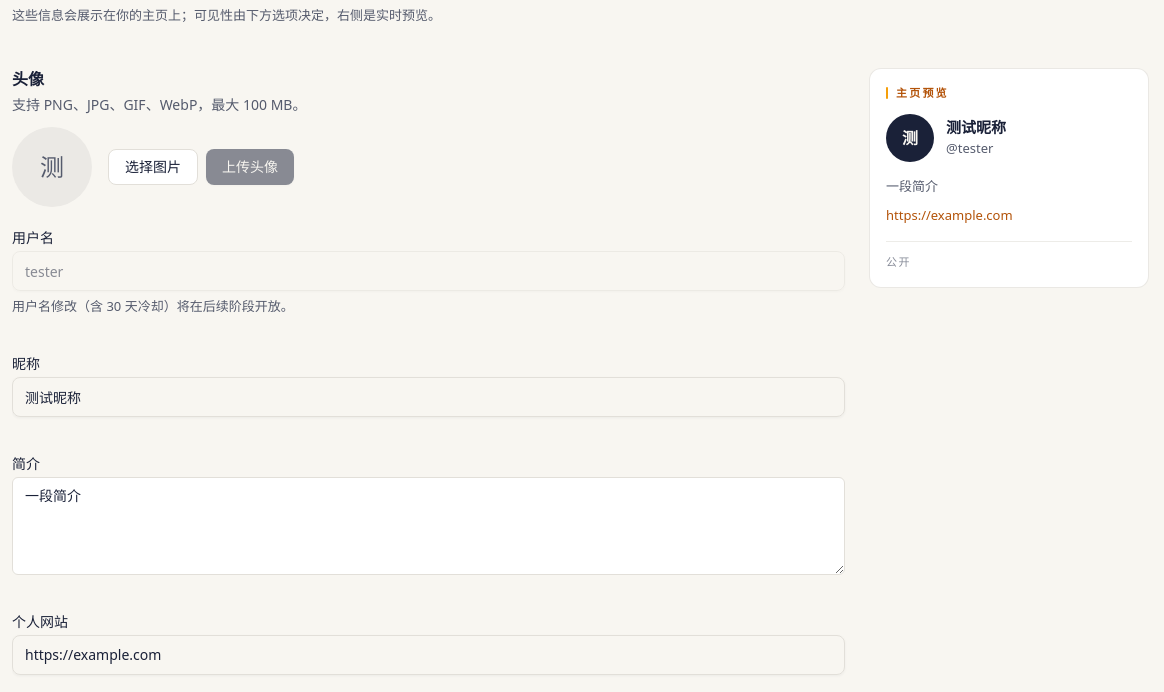
Test: SettingsProfilePage — edit and save › shows a saved confirmation and adopts the server response
Replace the text in the field labelled "昵称" with "新昵称" at (428, 397), box [12,377,845,417]
(page scrolled)
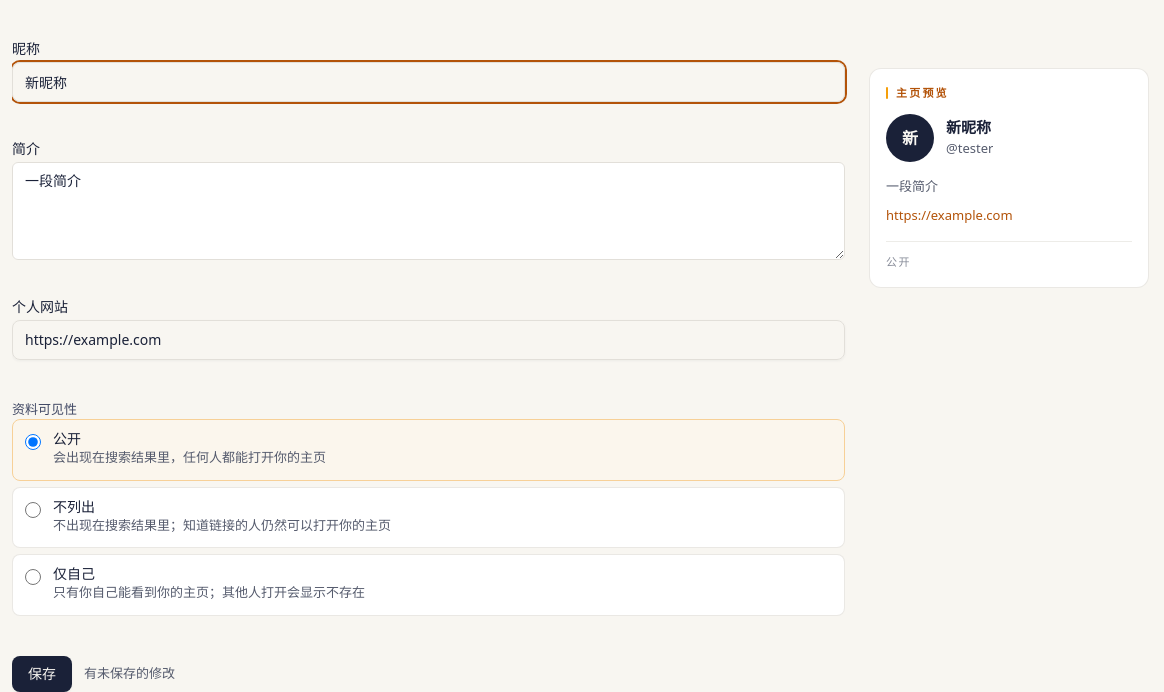
Click the button "保存" at (42, 674), box [12,656,72,691]
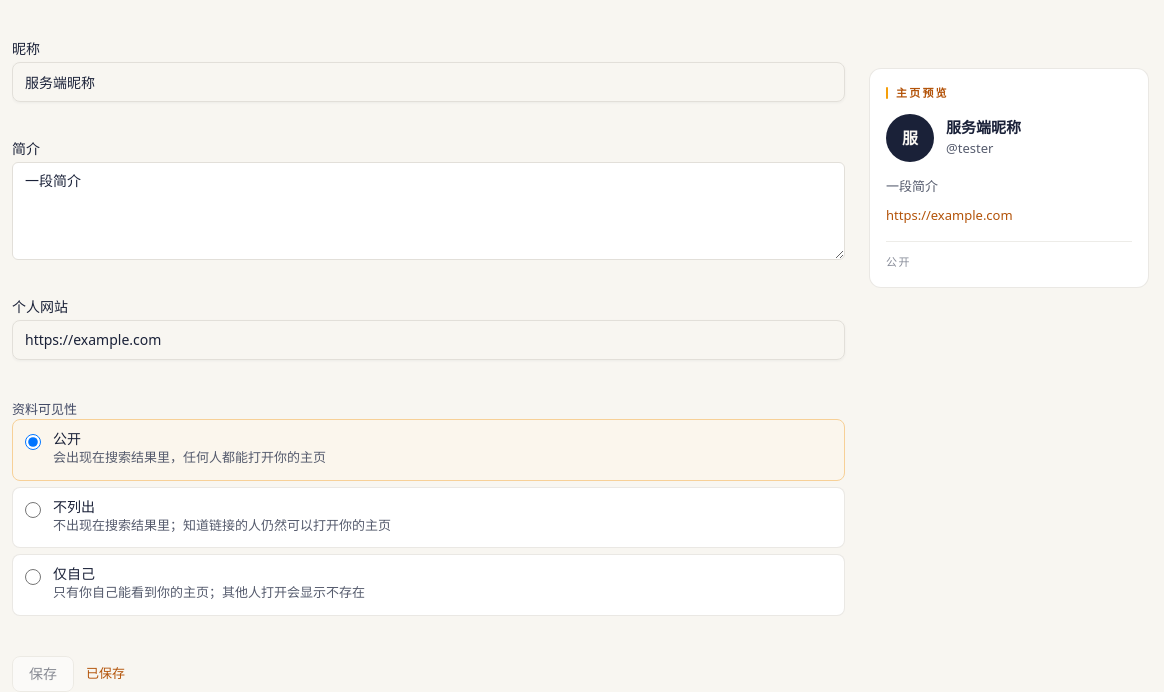
Now the message "已保存" is shown, box [86,664,125,683]
Now the field labelled "昵称" holds "服务端昵称", box [12,62,845,102]
Now the text with test id "profile-dirty" is gone
